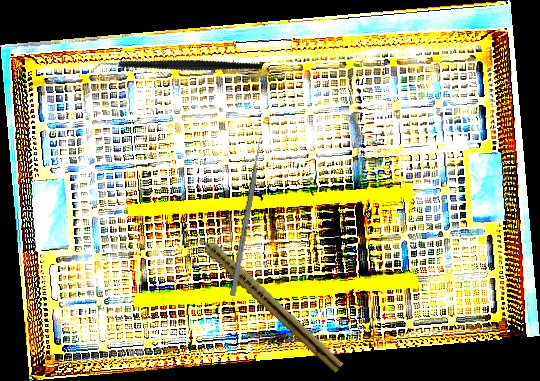Chopper: (91, 7, 264, 130)
Handpiece: (186, 222, 347, 374)
Pusher: (229, 133, 265, 297)
